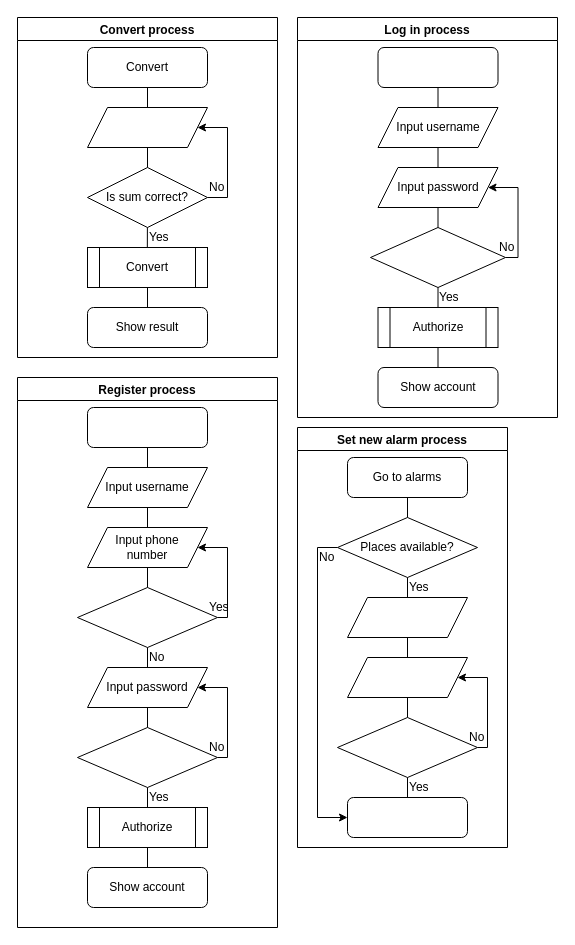
Some shapes in this 575 by 945 pixel diagram are drawn without their labels. Each missing label, with the box of its shape:
Alarm set: (346, 796, 468, 838)
Choose currency: (346, 596, 468, 638)
Choose pick: (346, 656, 468, 698)
Input sum: (86, 106, 208, 148)
Is password correct?: (370, 226, 506, 288)
Is phone number used?: (76, 586, 218, 648)
Is pick available?: (336, 716, 478, 778)
Is satisfies the requirements?: (76, 726, 218, 788)
Log in: (377, 46, 498, 88)
Register: (86, 406, 208, 448)
